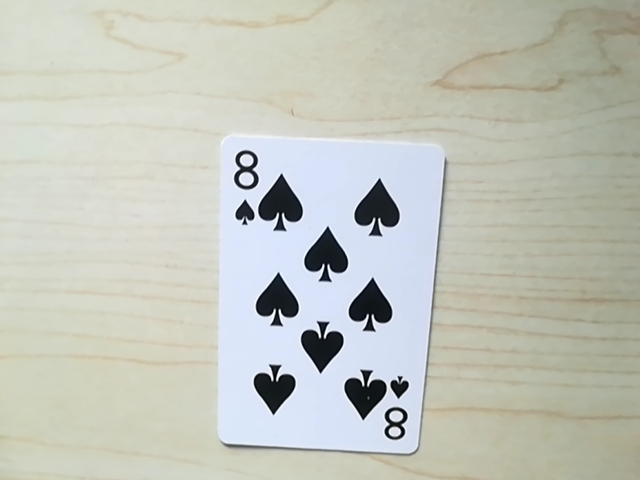ht 8: (225, 139, 268, 225), (376, 385, 416, 448)
